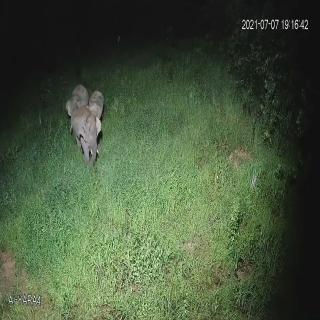Elephant: (73, 109, 103, 170), (65, 82, 89, 130), (88, 87, 106, 122)
